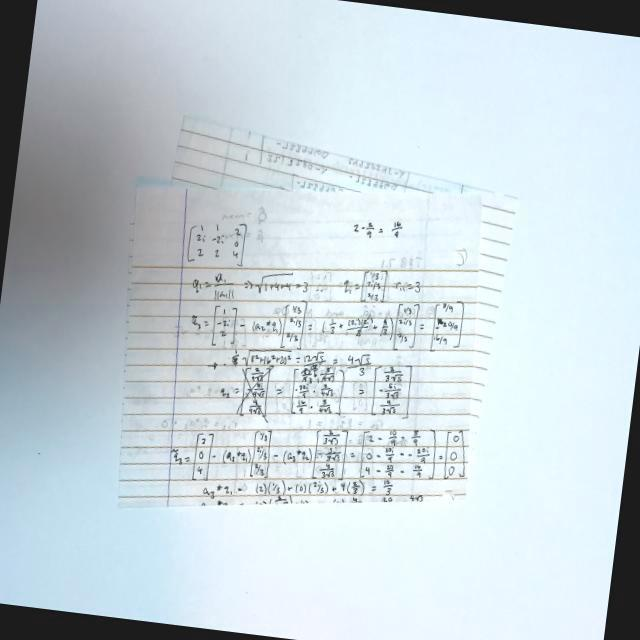paper: (93, 101, 526, 555)
